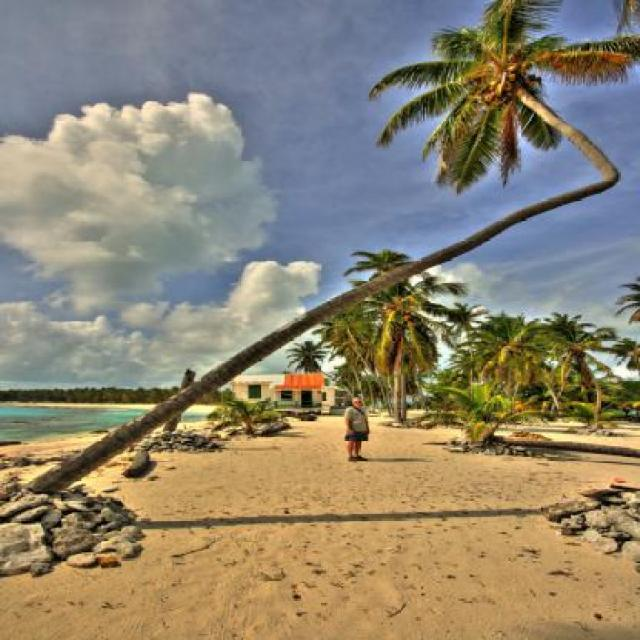Coconut: (470, 64, 532, 108), (390, 304, 416, 326)
